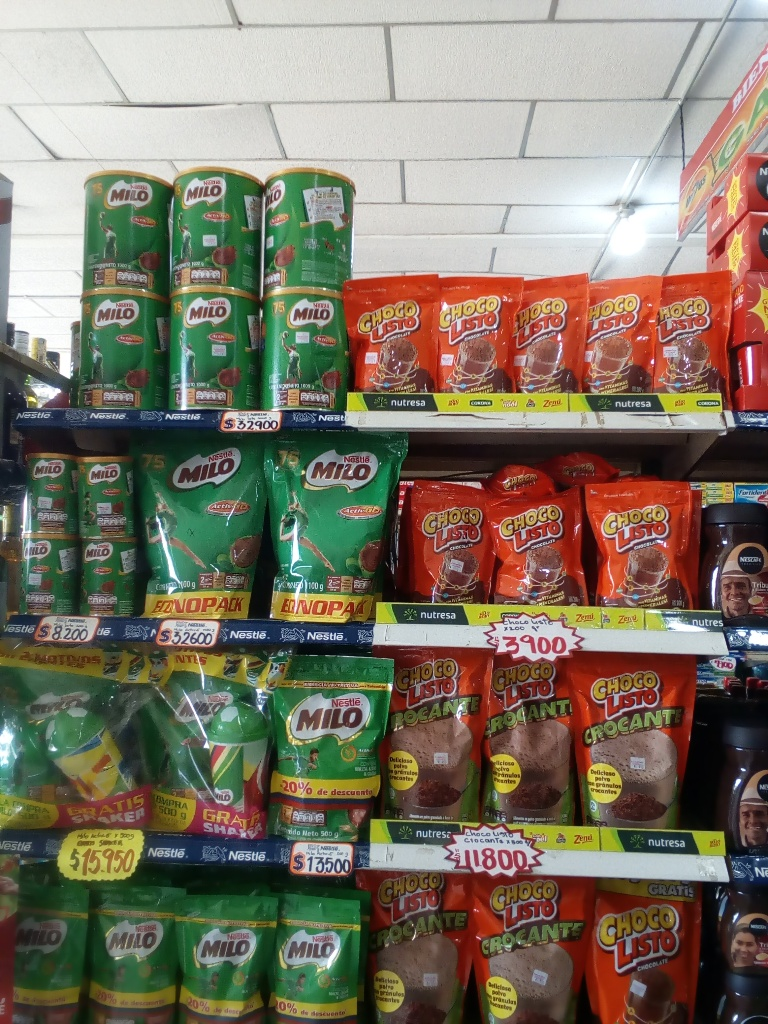COL0170102DYP50000: (379, 646, 490, 823)
COL0170203DYP50000: (3, 645, 87, 837)
COL0170203LAT20000: (27, 447, 78, 535)
